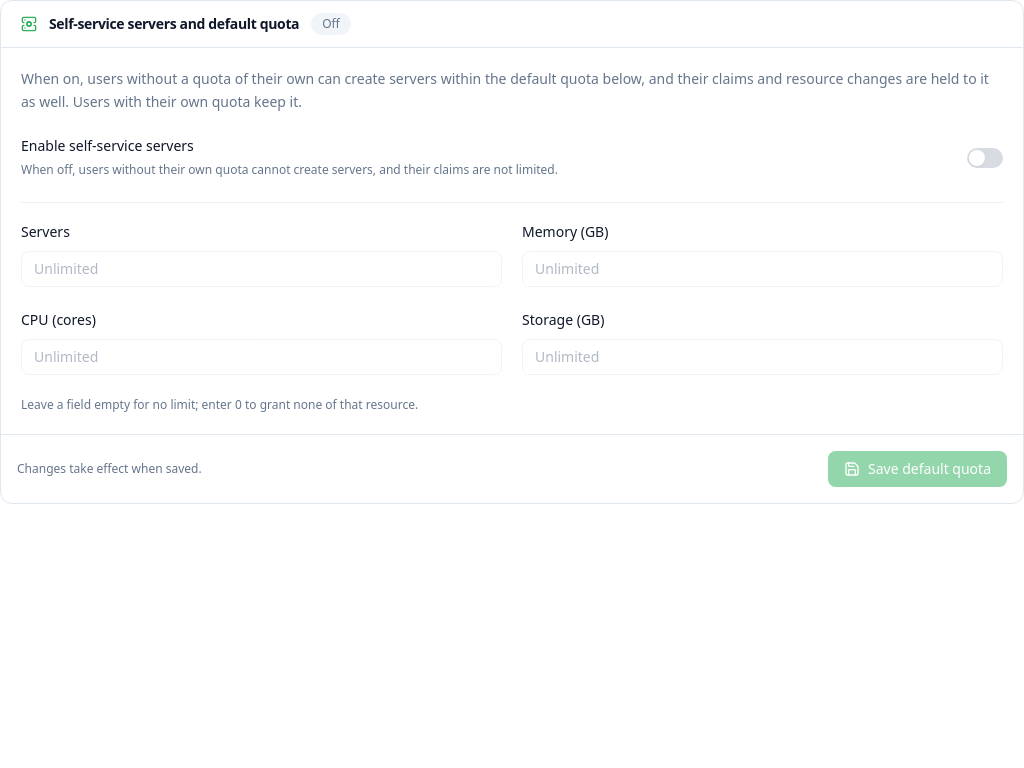
Test case: default quota › refuses a fractional server count before saving
The width and height of the screenshot is (1024, 768).
Expected: the text "Off" is shown, [311, 13, 351, 35]
Click the switch named "Enable self-service servers": [985, 158] box [967, 148, 1003, 168]
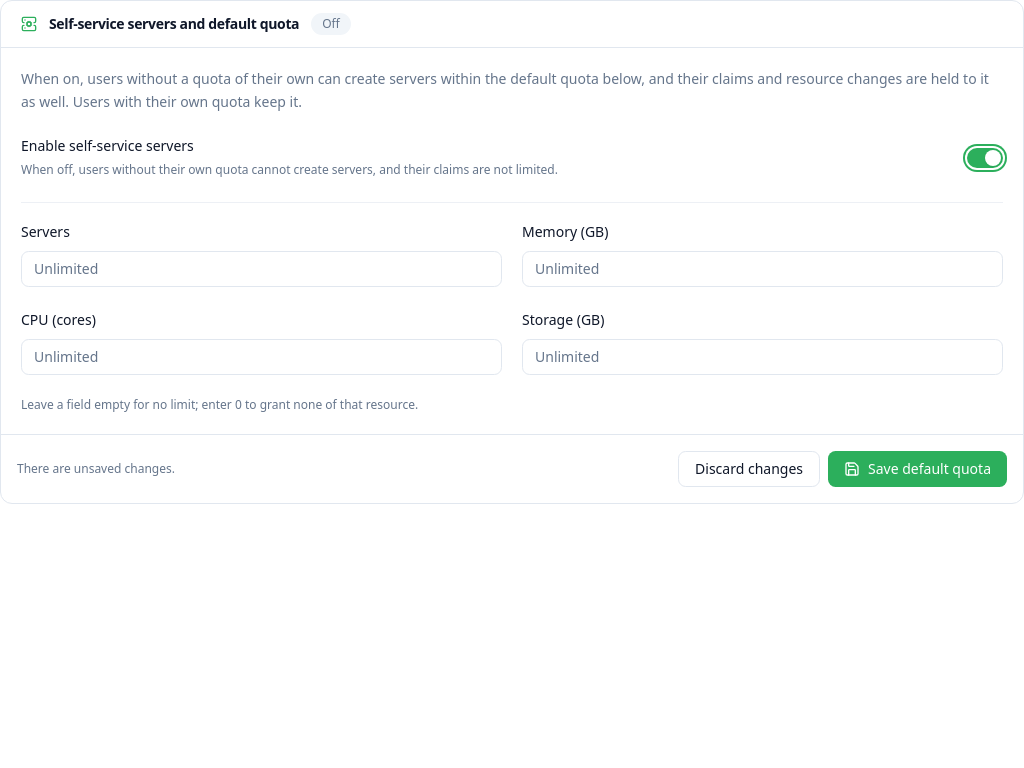
In the field labelled "Servers": [262, 268] box [21, 250, 502, 286], type "1.5"
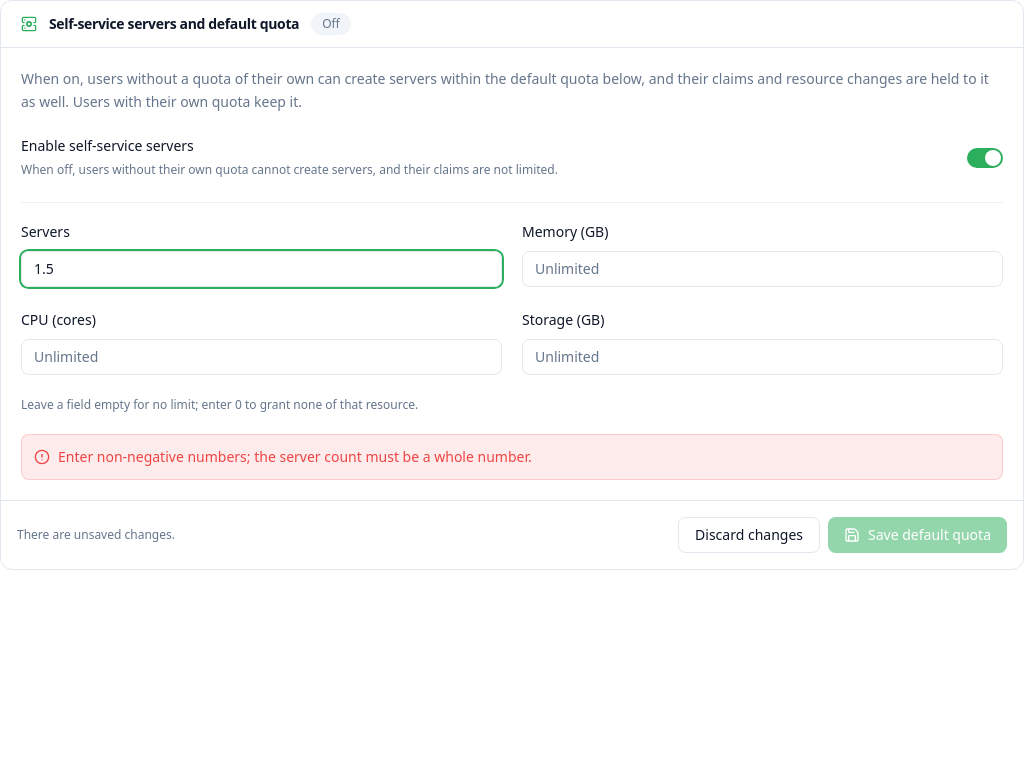
Now the text "Enter non-negative numbers; the server count must be a whole number." is shown, box [58, 447, 532, 467]
Now the button "Save default quota" is disabled, box [828, 517, 1007, 553]
